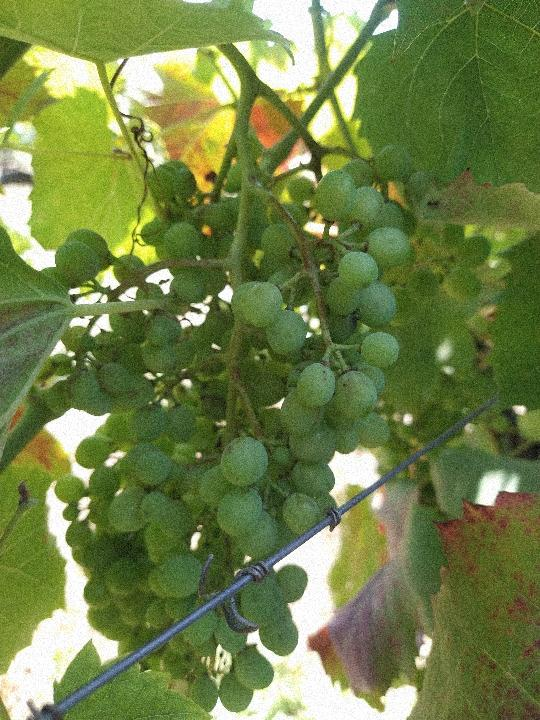grape: (41, 133, 498, 715)
